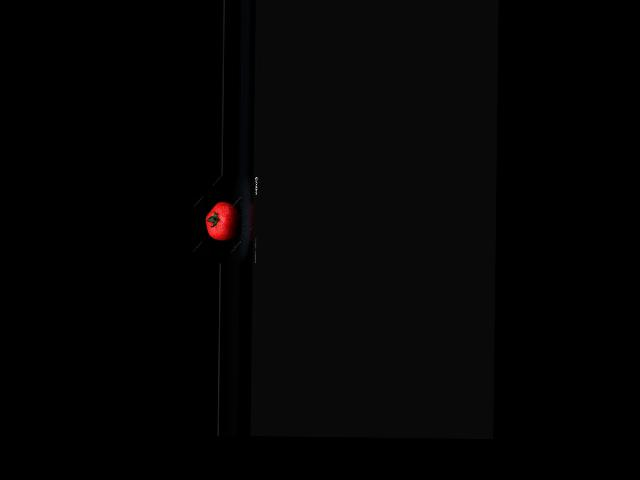tomato: (205, 201, 239, 241)
